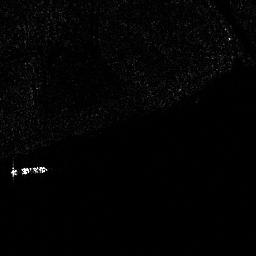ship: (7, 165, 50, 178)
